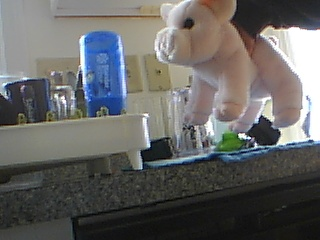piggy: (152, 1, 304, 135)
